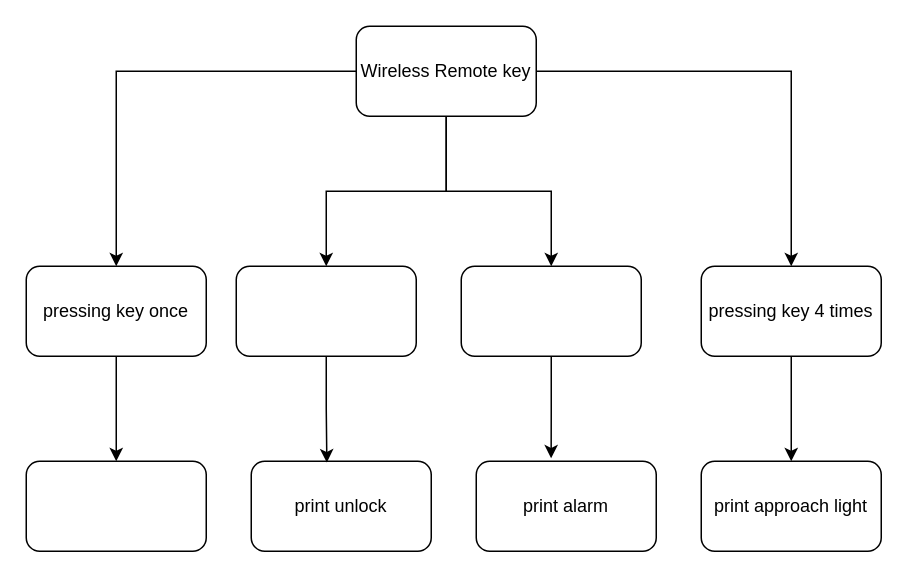
This 908x578 diagram has some shape labels left out. The shapes that lost their labels are listed below. From the top down, each one's box as (x1, y1, x2, y2) in pixels, then its label:
(235, 265, 416, 356): pressing key twice
(460, 265, 641, 356): pressing key thrice
(25, 460, 206, 551): Print Lock
